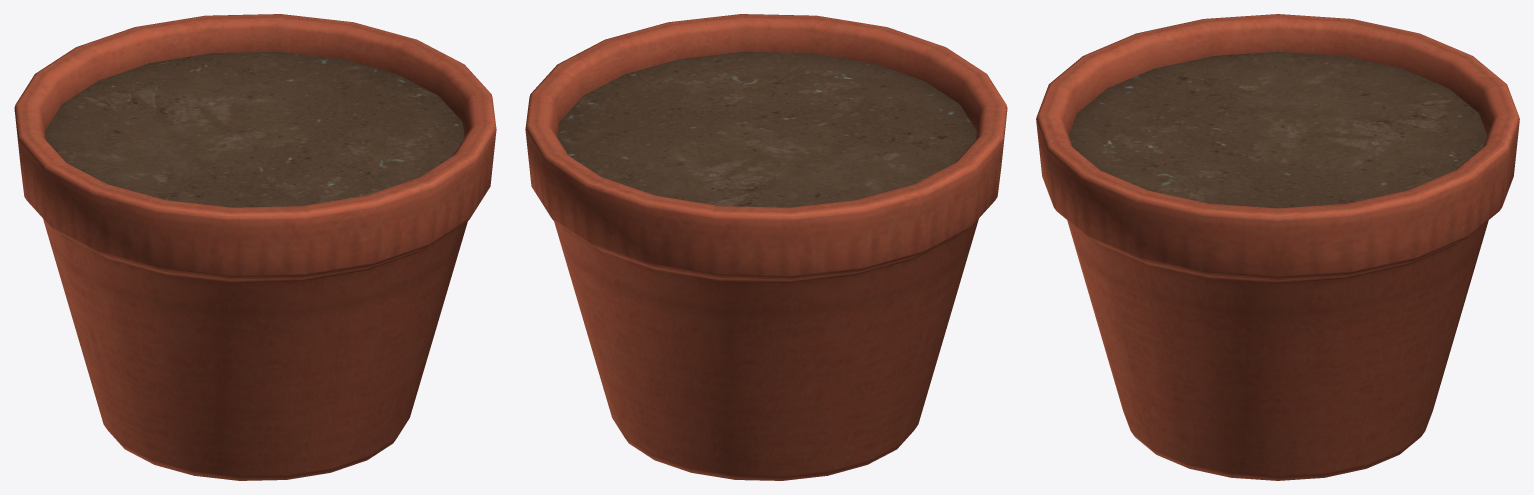
File: GardenPot02_1.FBX
3 views of the same model, side by side, from view 1: azimuth 30°, elevation 25°; view 2: azimuth 150°, elevation 25°; view 3: azimuth 270°, elevation 25° (orthographic).
Visible parts, largest first — view 1: GardenPot02_1; view 2: GardenPot02_1; view 3: GardenPot02_1.
Part boxes in pixels (x1,y1,x2,y2): GardenPot02_1: (14, 14, 496, 480); GardenPot02_1: (525, 14, 1007, 480); GardenPot02_1: (1036, 14, 1519, 480).
Size of what is drawn, in the model's own units: 0.3716 by 0.2584 by 0.3716.
